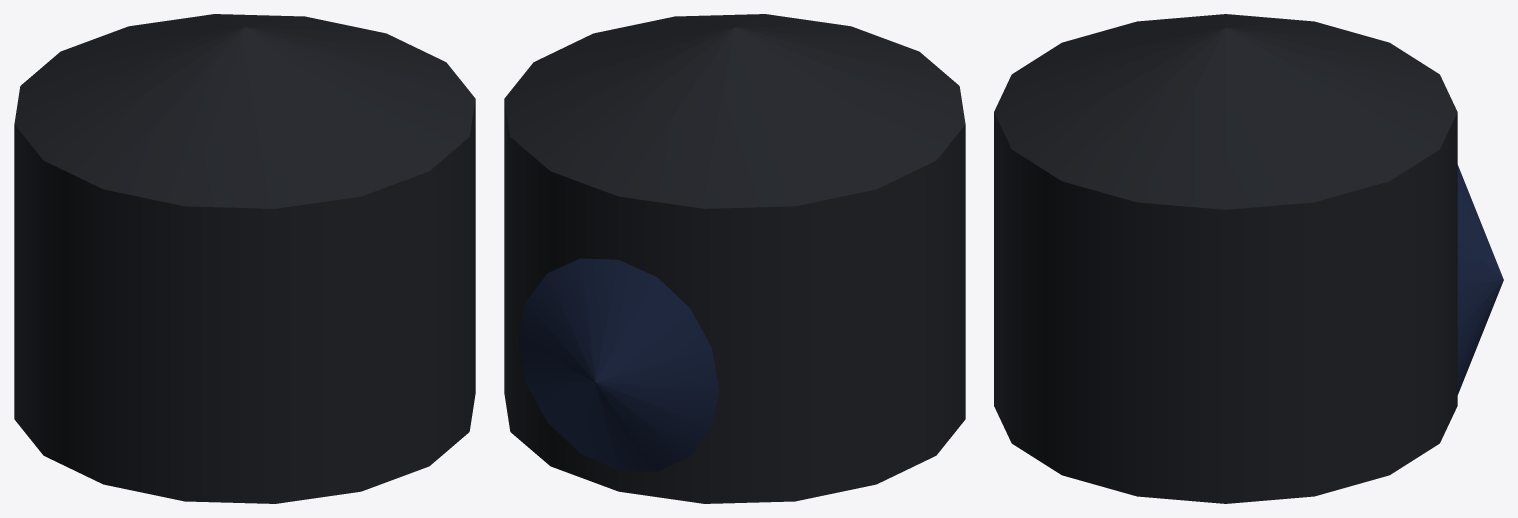
Rendered from klegg_camera.obj.
3 renders of one model, left to right at view 1: azimuth 30°, elevation 25°; view 2: azimuth 150°, elevation 25°; view 3: azimuth 270°, elevation 25°, orthographic.
Visible parts, largest first — view 1: klegg_camera; view 2: klegg_camera; view 3: klegg_camera.
Part boxes in pixels (x1,y1,x2,y2): klegg_camera: [14, 14, 475, 503]; klegg_camera: [504, 14, 965, 503]; klegg_camera: [994, 14, 1503, 503].
Bounding box in the file's own units: 0.1 × 0.1 × 0.11.
